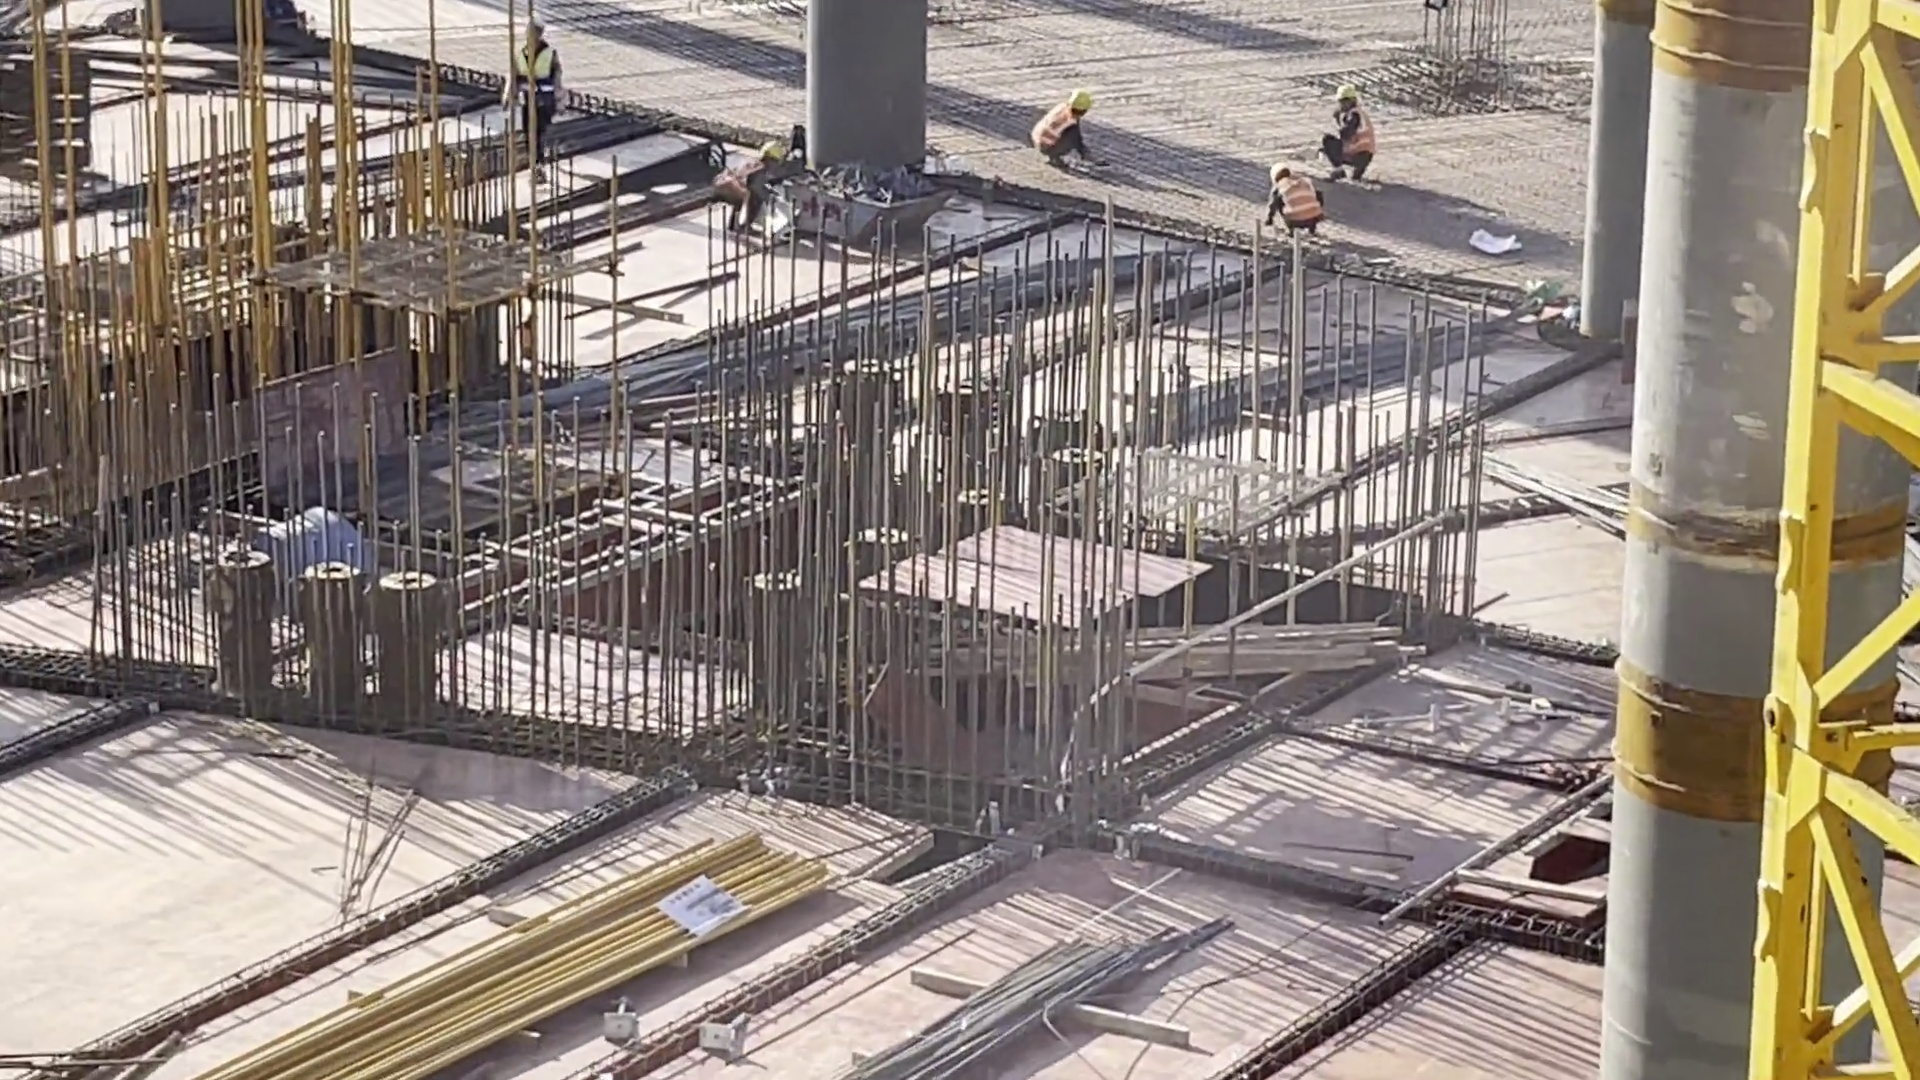helmet: (1070, 82, 1097, 112), (759, 139, 792, 163), (1264, 155, 1287, 181), (1331, 85, 1359, 100)
person: (499, 17, 566, 182), (708, 120, 804, 226), (1307, 79, 1391, 178), (1258, 157, 1328, 234), (1038, 82, 1089, 165)
vest: (1029, 111, 1085, 163), (1335, 105, 1387, 159), (511, 49, 557, 96), (1285, 189, 1315, 231)
